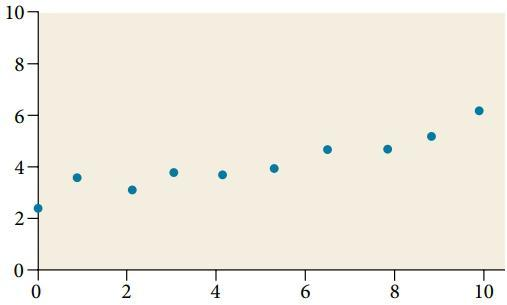axis: (26, 265, 506, 282), (27, 7, 44, 282)
point: (215, 167, 234, 186), (164, 165, 184, 182), (266, 160, 283, 177), (31, 200, 46, 219), (70, 168, 85, 185), (124, 182, 141, 197), (320, 142, 337, 157), (472, 102, 487, 118), (424, 130, 437, 144), (379, 143, 394, 155)
